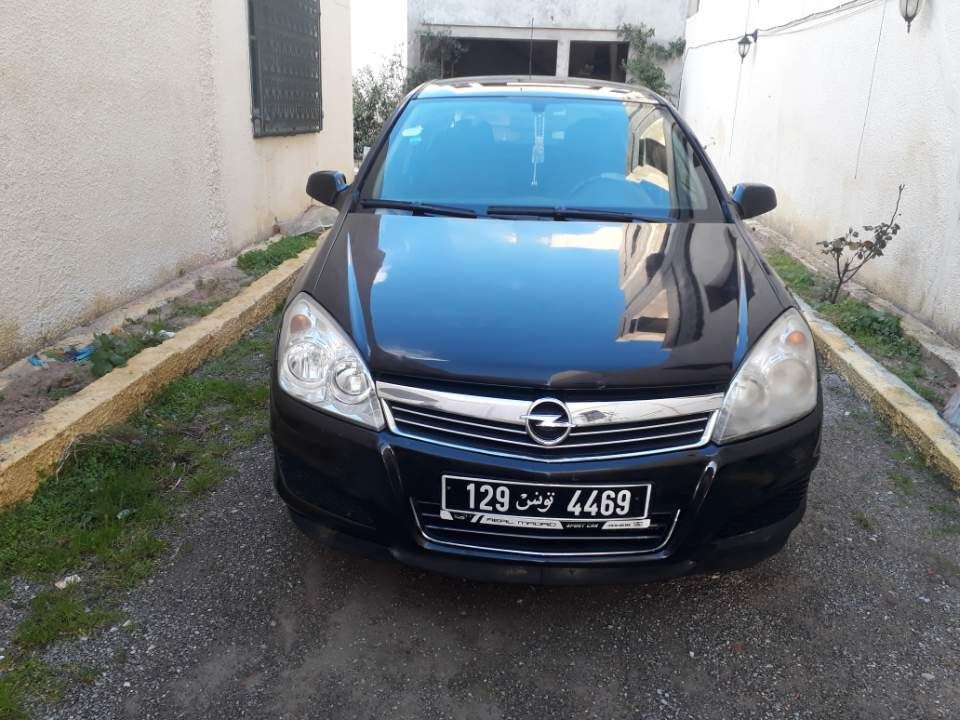LP: (440, 474, 654, 523)
